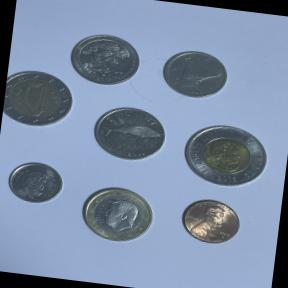coin: (176, 117, 278, 195), (72, 178, 166, 252), (86, 98, 172, 168), (1, 65, 77, 133), (66, 28, 146, 92), (175, 192, 251, 254), (3, 155, 72, 212)
